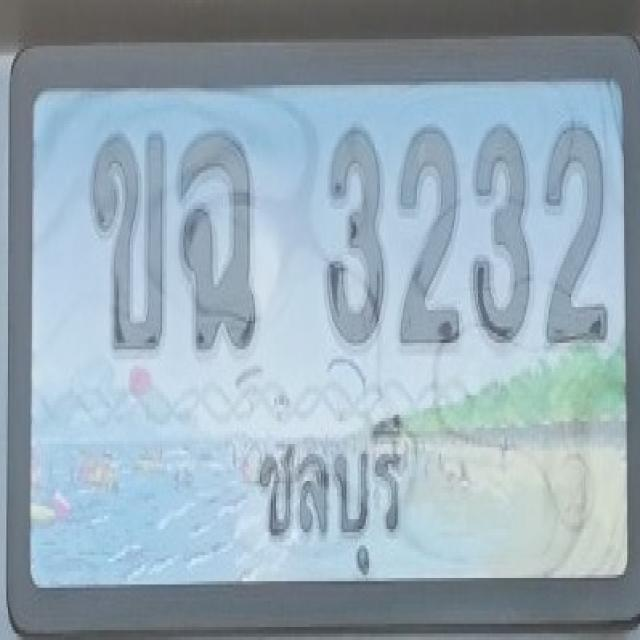license_plate: (9, 39, 640, 636)
